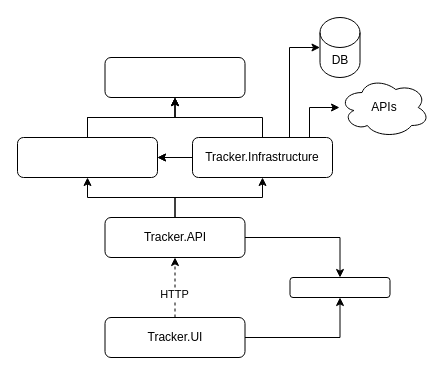
Image size: 447x375. Some labels were removed from this diagram. Here are the shapes that lost their labels. From the top down, the box of each, then its label:
(104, 56, 245, 98): Tracker.Domain
(16, 136, 158, 178): Tracker.Application
(289, 276, 390, 298): Tracker.Shared
